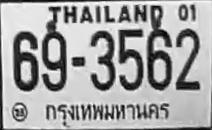2: (175, 28, 200, 90)
3: (89, 30, 115, 90)
5: (118, 28, 143, 90)
6: (146, 28, 172, 90), (12, 30, 38, 90)
9: (41, 29, 66, 91)
BKK: (41, 100, 171, 122)
